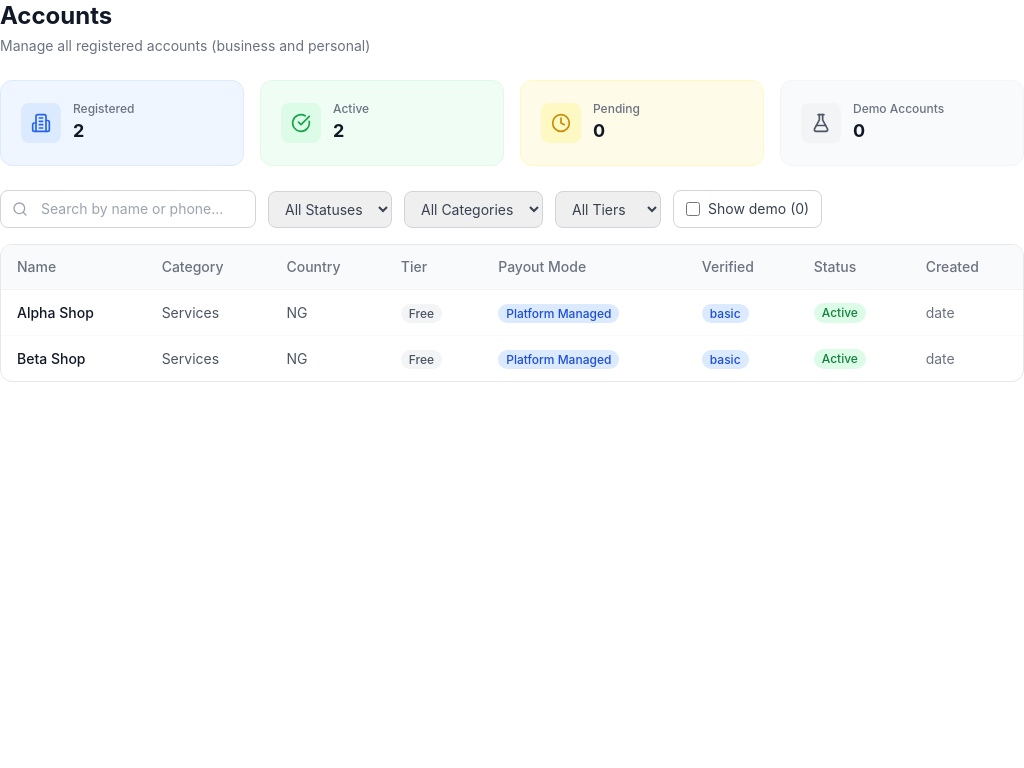
actual Businesses financial summary › deducts refunds once, both retained fees, and separate paid/processing payouts
Step 1. Click the text "Alpha Shop" → (55, 312), box [17,304,94,320]
(page scrolled)
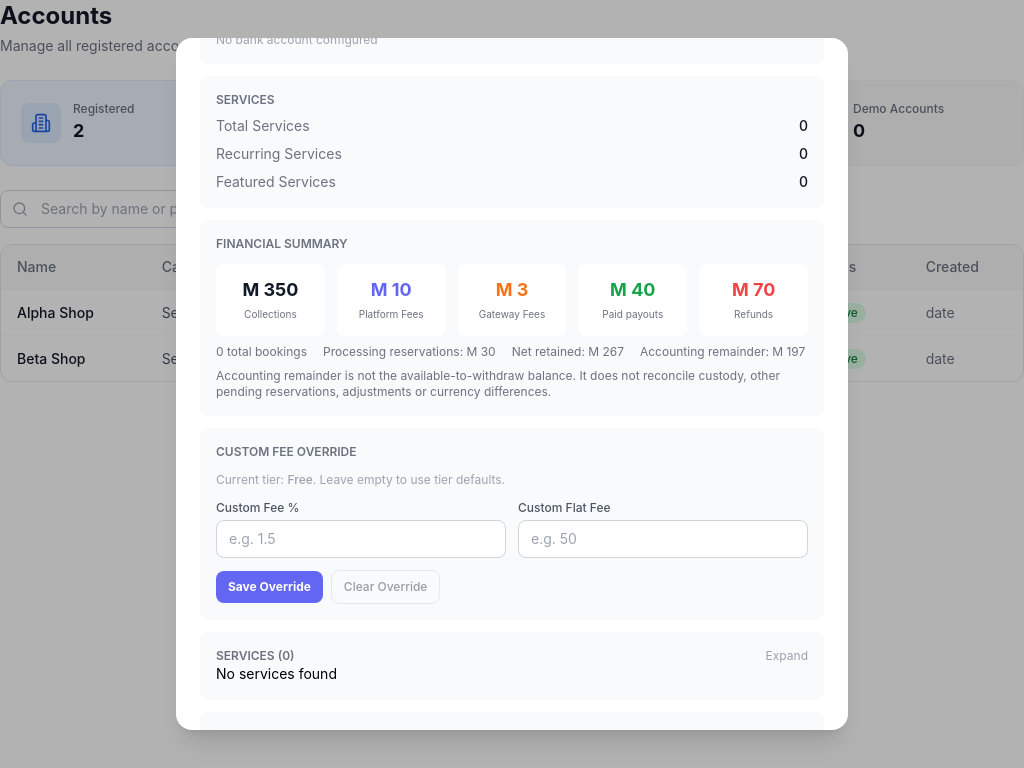
Result: the text "Accounting remainder: M 197" is shown at [640,344,805,360]
Result: the text "Net retained: M 267" is shown at [512,344,624,360]
Result: the text "Processing reservations: M 30" is shown at [323,344,496,360]
